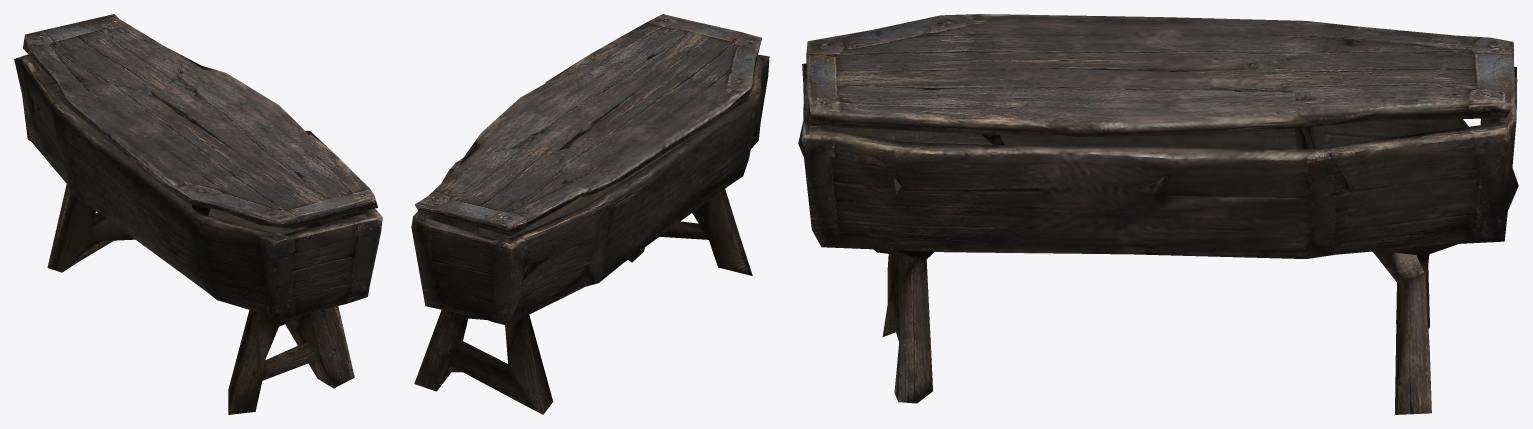
File: coffin.glb
The picture shows the model from 3 angles, left to right: view 1: azimuth 30°, elevation 25°; view 2: azimuth 150°, elevation 25°; view 3: azimuth 270°, elevation 25°; orthographic projection. The views are drawn at different scales.
Visible parts, largest first — view 1: tripo_node_2d44a64e-e97b-4f6a-80ce-11586c5907f0; view 2: tripo_node_2d44a64e-e97b-4f6a-80ce-11586c5907f0; view 3: tripo_node_2d44a64e-e97b-4f6a-80ce-11586c5907f0.
Boxes of the visible parts, x1,y1,x2,y2 form: tripo_node_2d44a64e-e97b-4f6a-80ce-11586c5907f0: (14,14,382,414); tripo_node_2d44a64e-e97b-4f6a-80ce-11586c5907f0: (411,14,769,414); tripo_node_2d44a64e-e97b-4f6a-80ce-11586c5907f0: (798,14,1518,414).
Size of the model in its own units: 0.3738 by 0.4521 by 1.
Materials: 1 (1 with a texture image).
